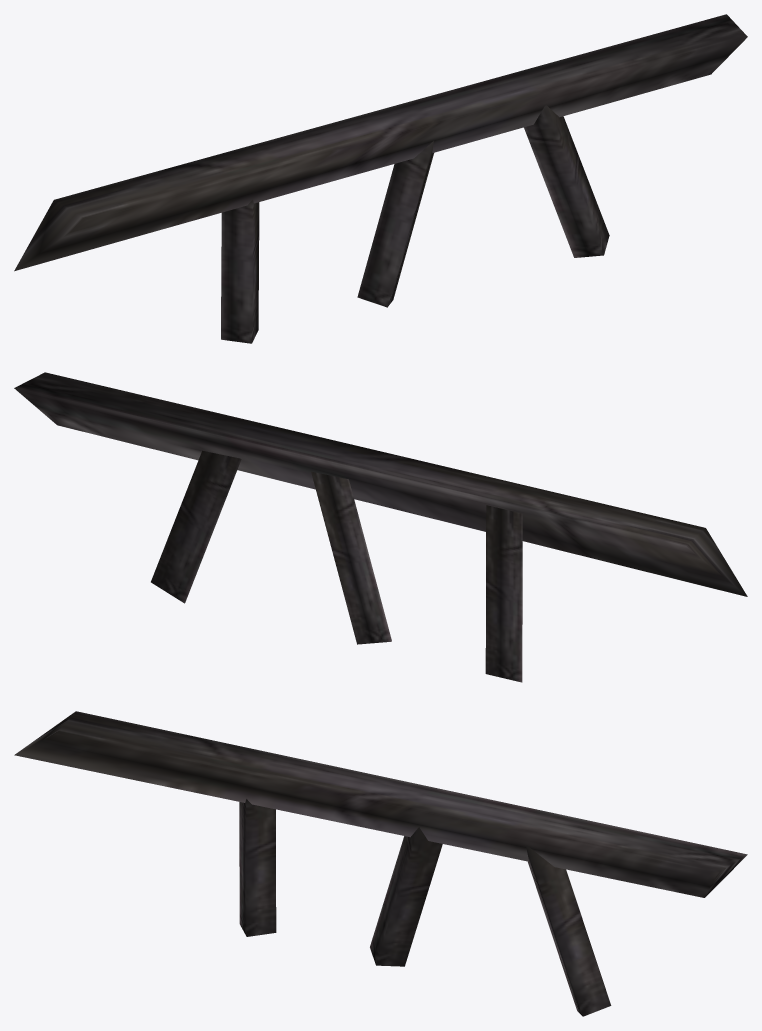
File: Battle05_Other_01.FBX
3 renders of one model, top to bottom at view 1: azimuth 30°, elevation 25°; view 2: azimuth 150°, elevation 25°; view 3: azimuth 330°, elevation 25°, orthographic. The views are drawn at different scales.
Visible parts, largest first — view 1: Battle05_Other_01; view 2: Battle05_Other_01; view 3: Battle05_Other_01.
Part boxes in pixels (x1=…): Battle05_Other_01: x1=14, y1=14, x2=747, y2=343; Battle05_Other_01: x1=14, y1=372, x2=747, y2=682; Battle05_Other_01: x1=14, y1=711, x2=747, y2=1016.
Bounding box in the file's own units: 7.72 × 1.94 × 0.7466.
